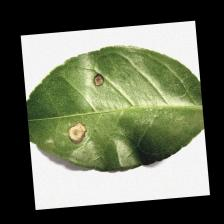canker: (50, 63, 119, 157)
